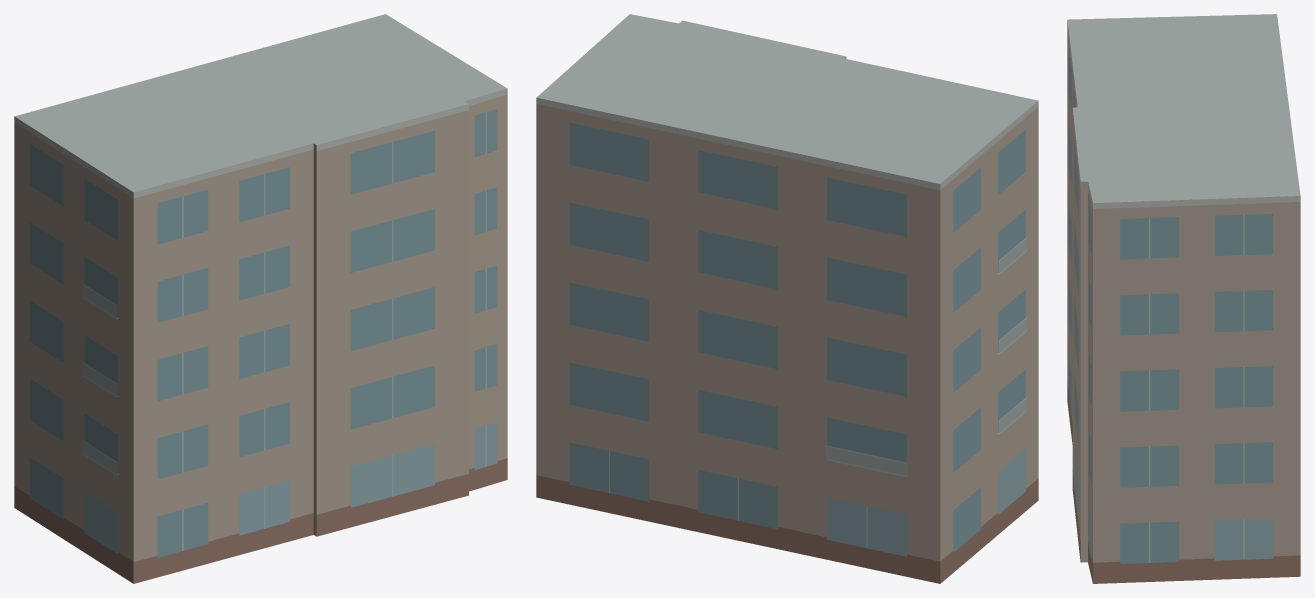
File: survey-upis-32482429.glb
The picture shows the model from 3 angles, left to right: view 1: azimuth 30°, elevation 25°; view 2: azimuth 150°, elevation 25°; view 3: azimuth 270°, elevation 25°; orthographic projection. The views are drawn at different scales.
Visible parts, largest first — view 1: survey-upis-32482429.tmp; view 2: survey-upis-32482429.tmp; view 3: survey-upis-32482429.tmp.
Boxes of the visible parts, box(x1,y1,x2,y2) form: survey-upis-32482429.tmp: box(14, 14, 507, 583); survey-upis-32482429.tmp: box(536, 14, 1038, 583); survey-upis-32482429.tmp: box(1067, 14, 1300, 583).
Size of the model in its own units: 16.63 by 15.6 by 8.67.
